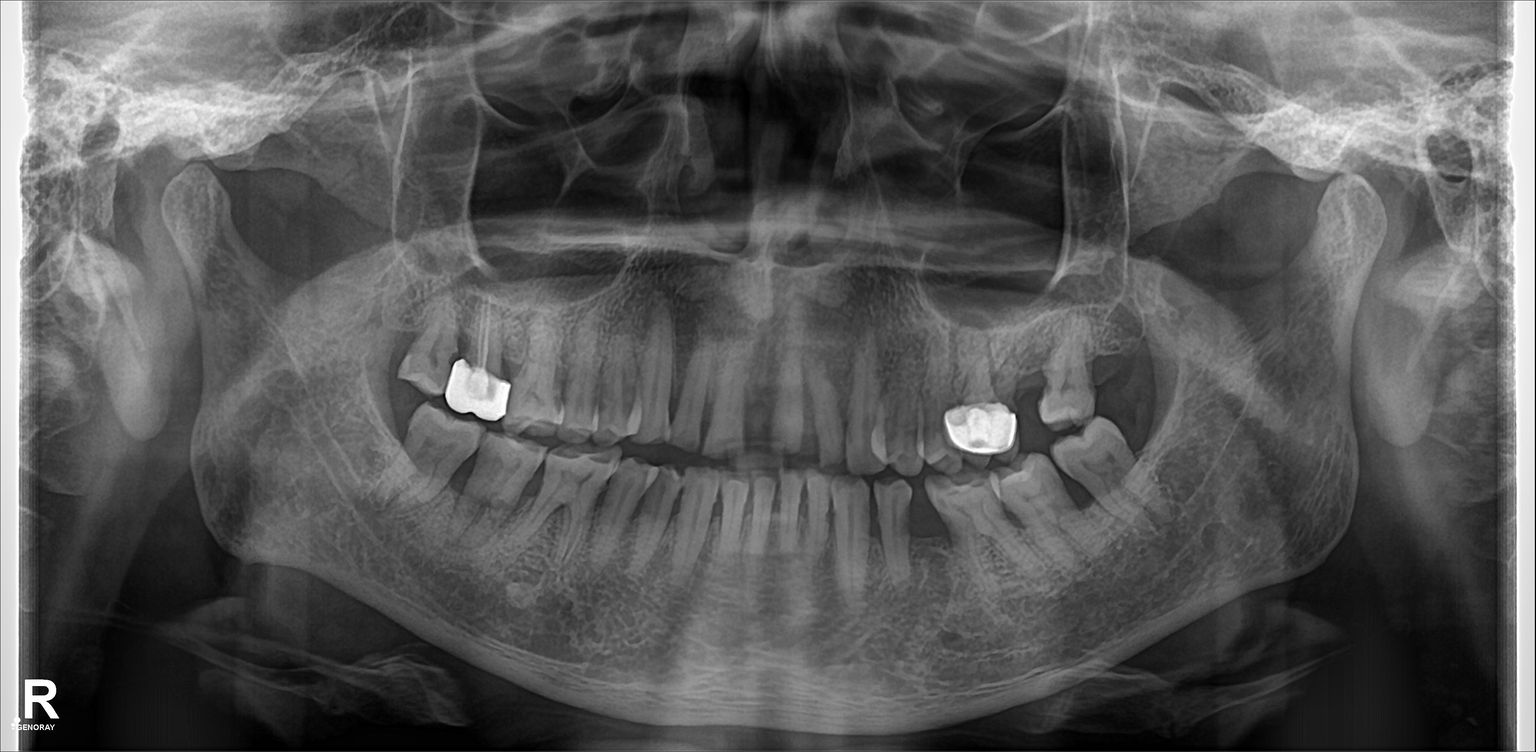Endodontically Treated Tooth: (946, 329, 1018, 454), (441, 309, 510, 422)
Missing Tooth: (1095, 311, 1144, 401), (1021, 337, 1043, 436), (914, 493, 942, 570)
